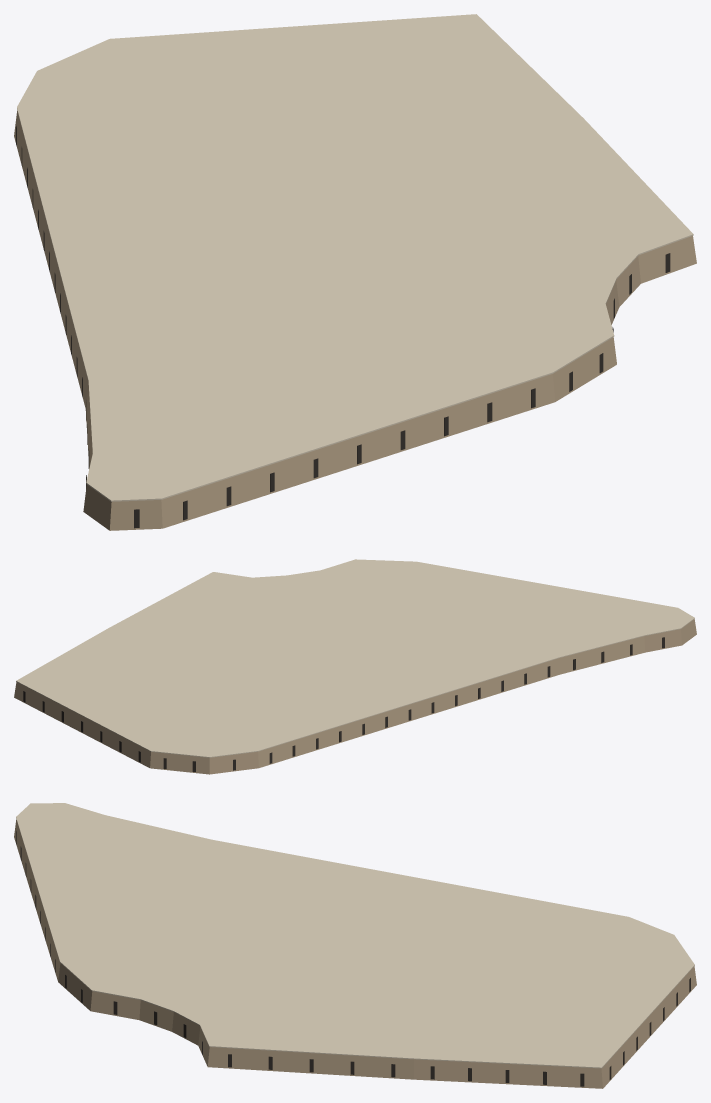
Rendered from festung-vauban-insel.glb.
The picture shows the model from 3 angles, top to bottom: view 1: azimuth 30°, elevation 25°; view 2: azimuth 150°, elevation 25°; view 3: azimuth 270°, elevation 25°; orthographic projection. The views are drawn at different scales.
Parts seen in each view (by area): view 1: festung-vauban-insel_lod0; view 2: festung-vauban-insel_lod0; view 3: festung-vauban-insel_lod0.
Part boxes in pixels (box(x1,y1,x2,y2)): festung-vauban-insel_lod0: box(14, 14, 696, 530); festung-vauban-insel_lod0: box(14, 559, 696, 774); festung-vauban-insel_lod0: box(14, 803, 696, 1088).
Size of what is drawn, in the model's own units: 128 by 4.55 by 138.
